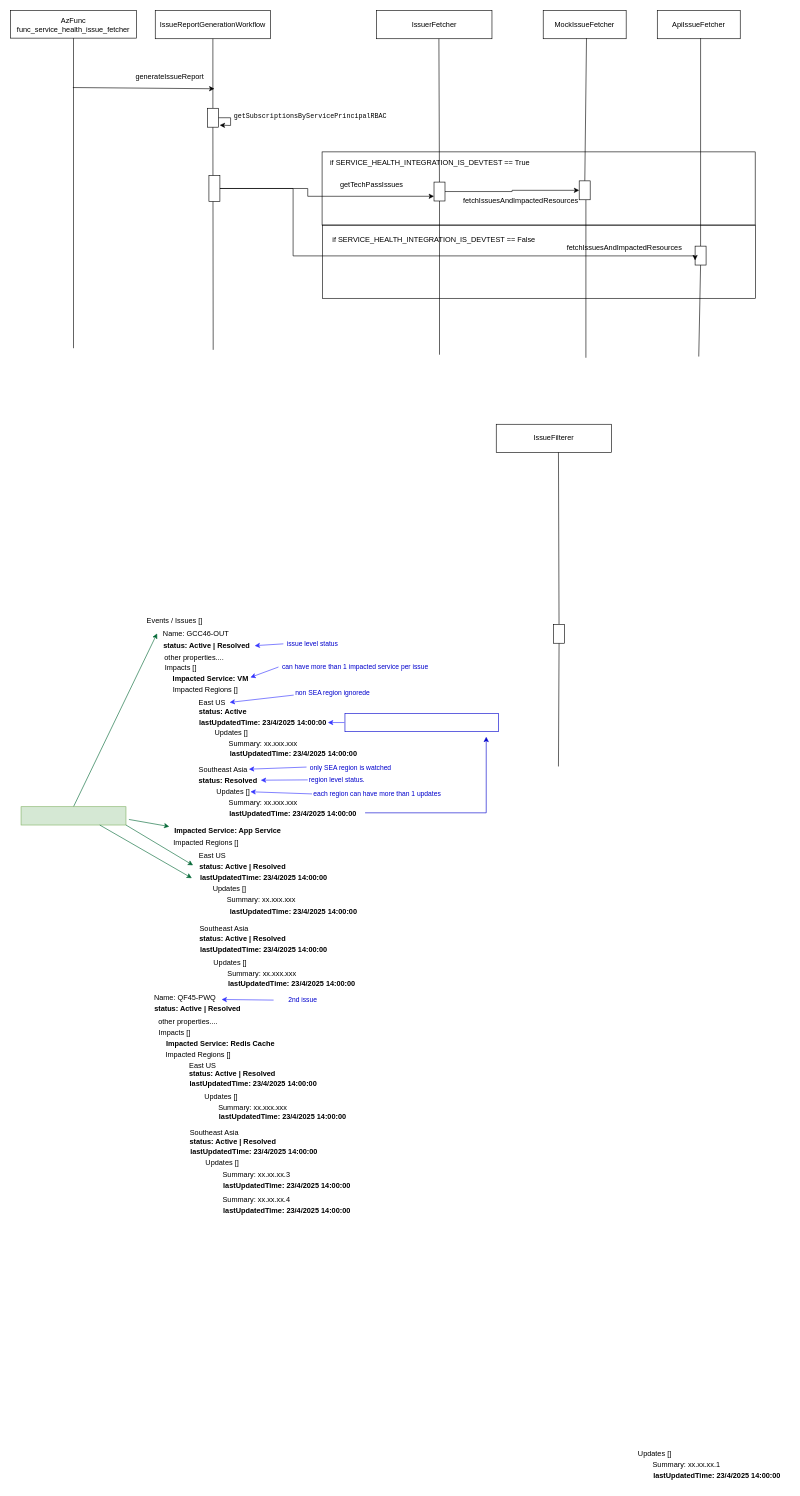
Image size: 800x1496. Some labels were removed from this diagram. Each missing label, with the centre of its shape:
this datetime reflects the datetime of latest Update: point 421,722
tracked in table storage to prevent sending duplicate notifications: point 73,815
